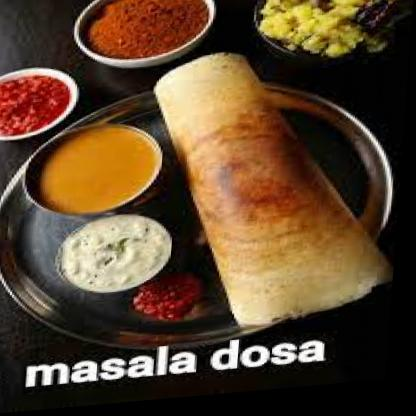dosa: (141, 46, 408, 339)
